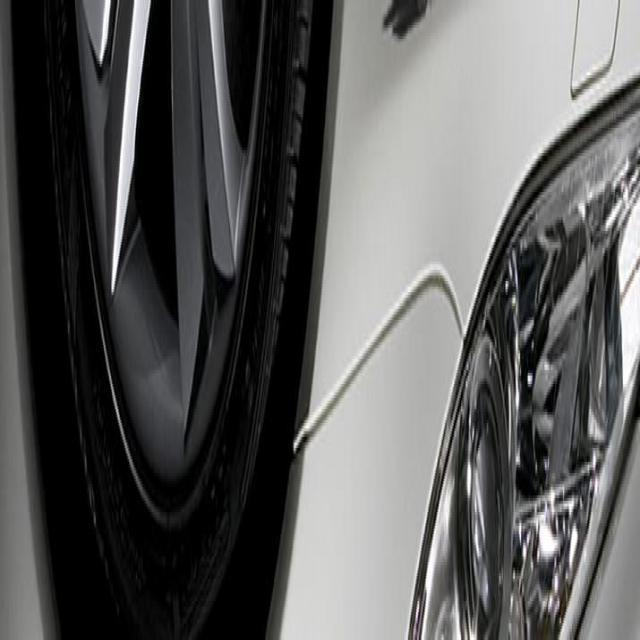scratch: (364, 0, 452, 70)
